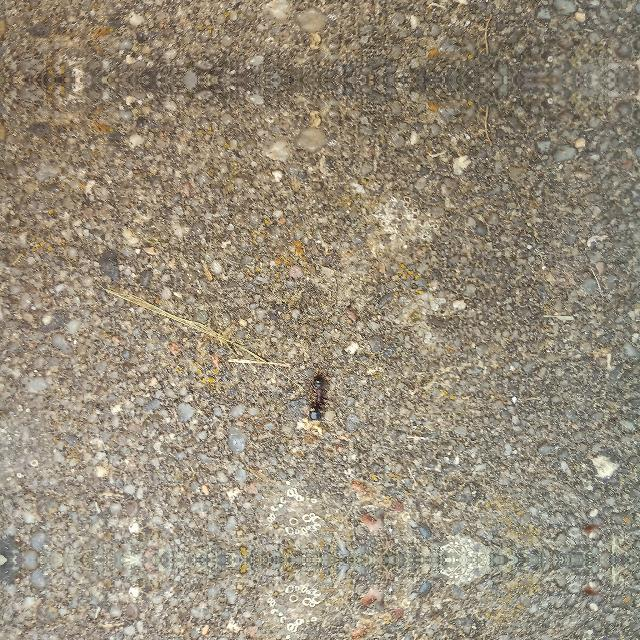Dolichoderus: (290, 368, 340, 426)
